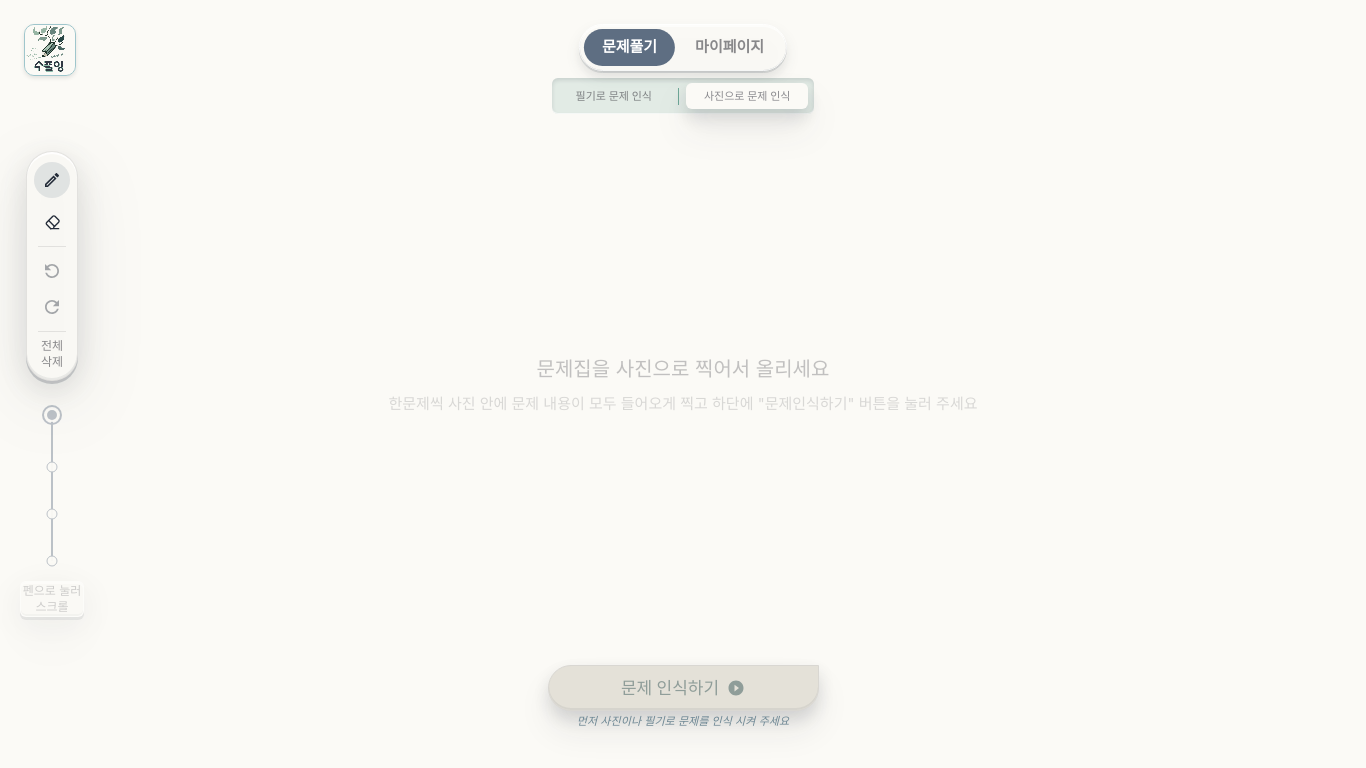
Test case: CHAT 단계 전달(off) › figureContext 키 없이 기존 인자만 보낸다
Press the mouse on the drawing at x=683, y=384, box left=0, top=0, right=1365, bottom=767
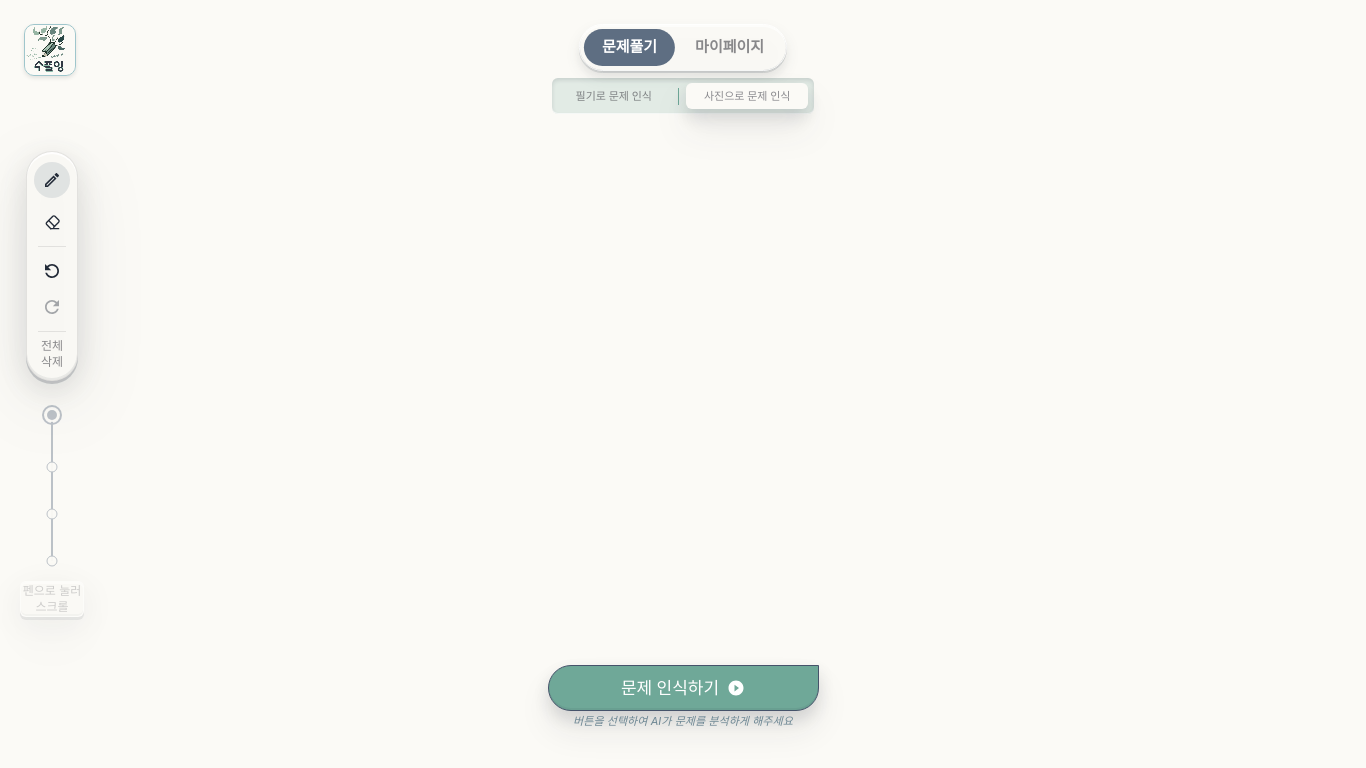
Click the button "문제 인식하기".
click(683, 688)  # box left=548, top=665, right=818, bottom=711
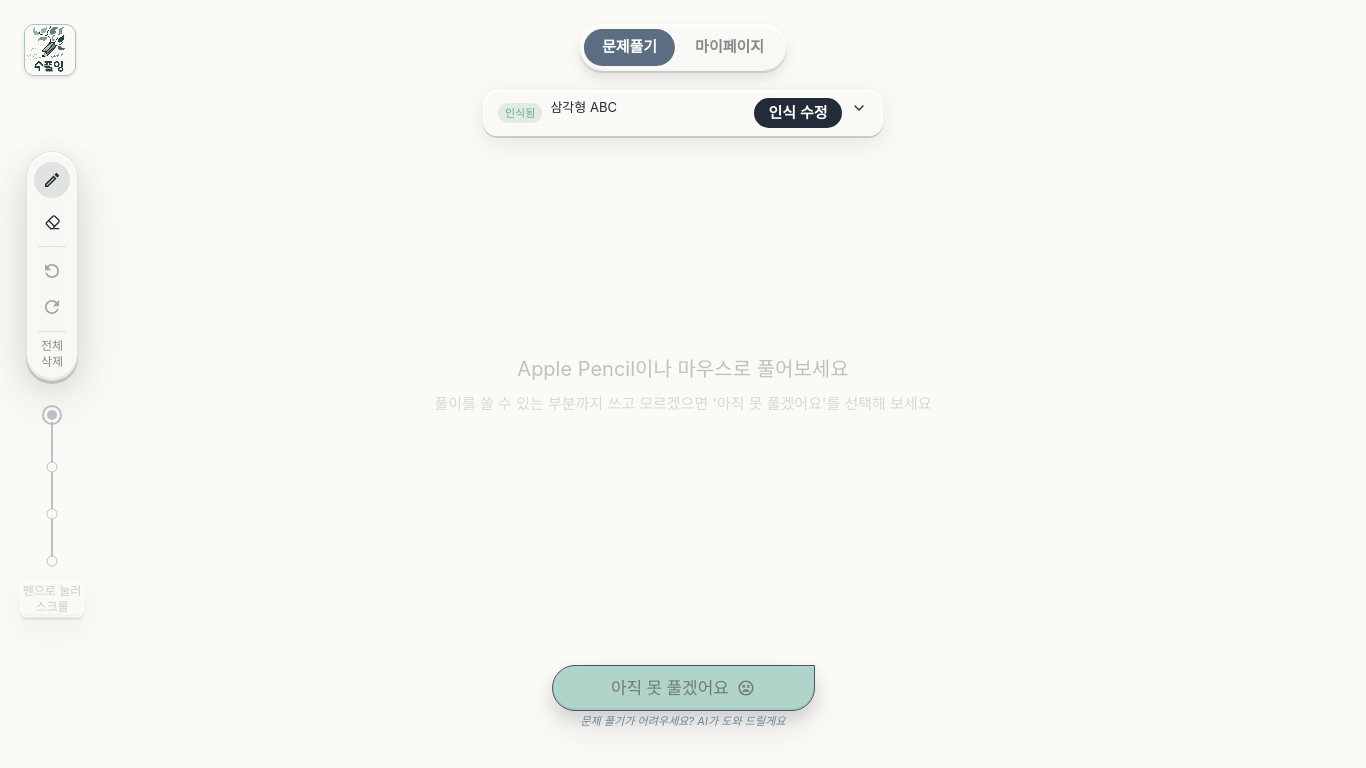
Result: the button "아직 못 풀겠어요" is enabled
Click the button "아직 못 풀겠어요".
click(683, 688)  # box left=552, top=665, right=814, bottom=711
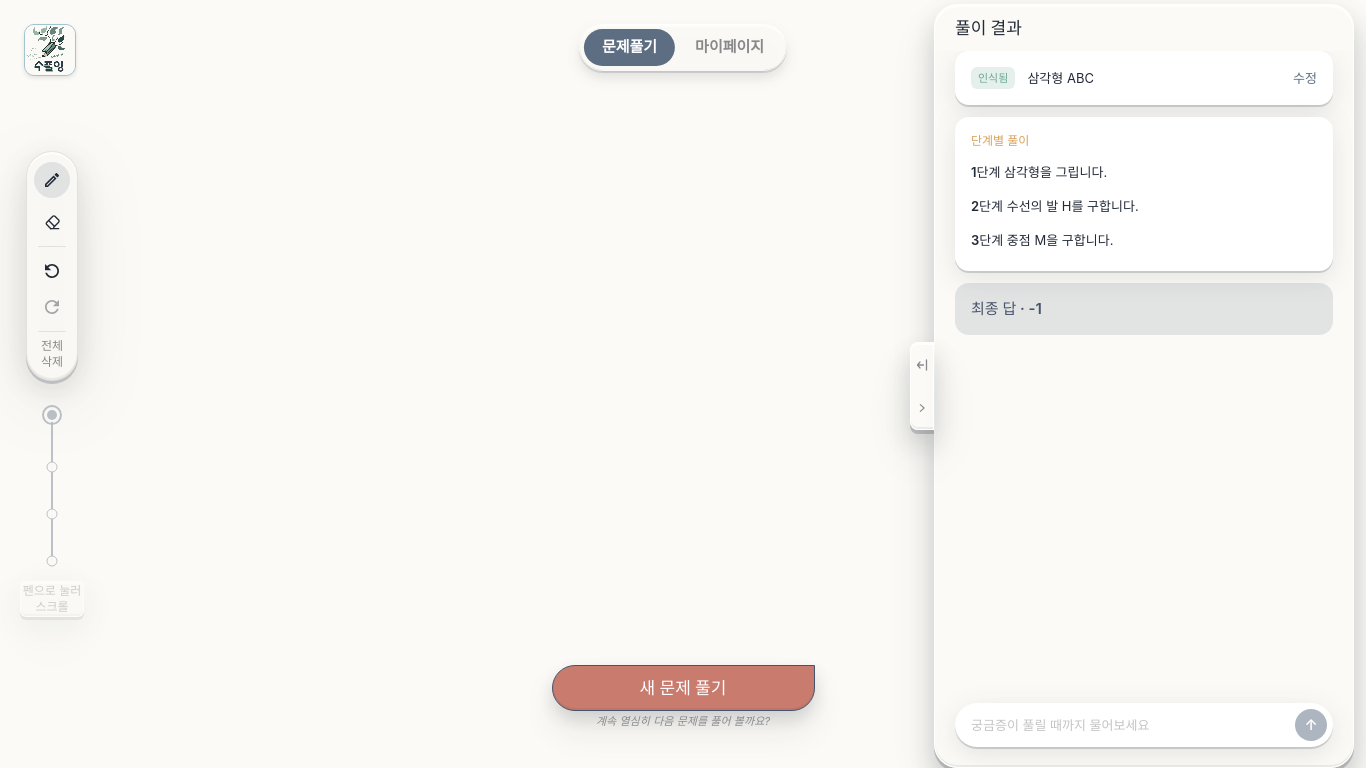
Result: the heading "풀이 결과" is shown at left=955, top=17, right=1022, bottom=39
Type "질문" into the field named "후속 질문 입력".
click(1129, 725); type("질문")  # box left=971, top=716, right=1287, bottom=734
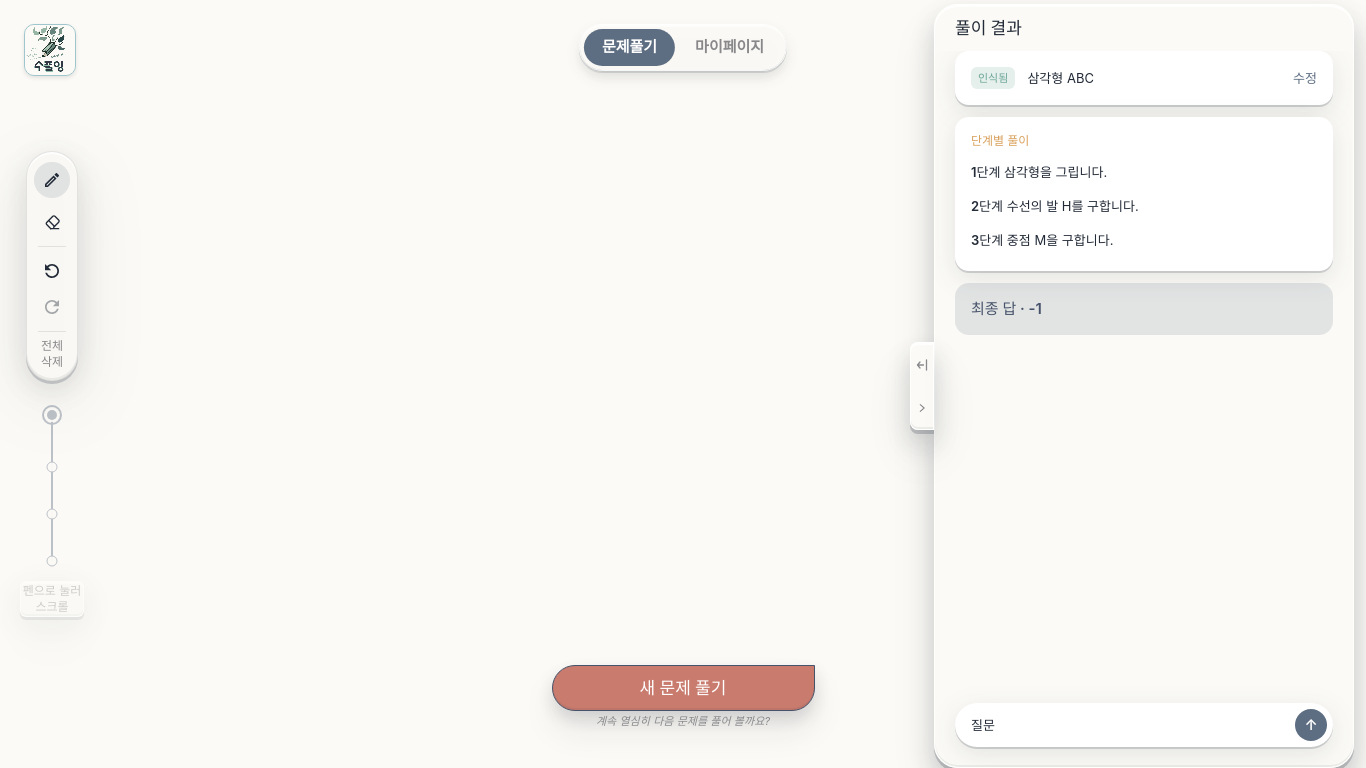
Click the button named "질문 보내기".
click(1311, 725)  # box left=1295, top=709, right=1327, bottom=741
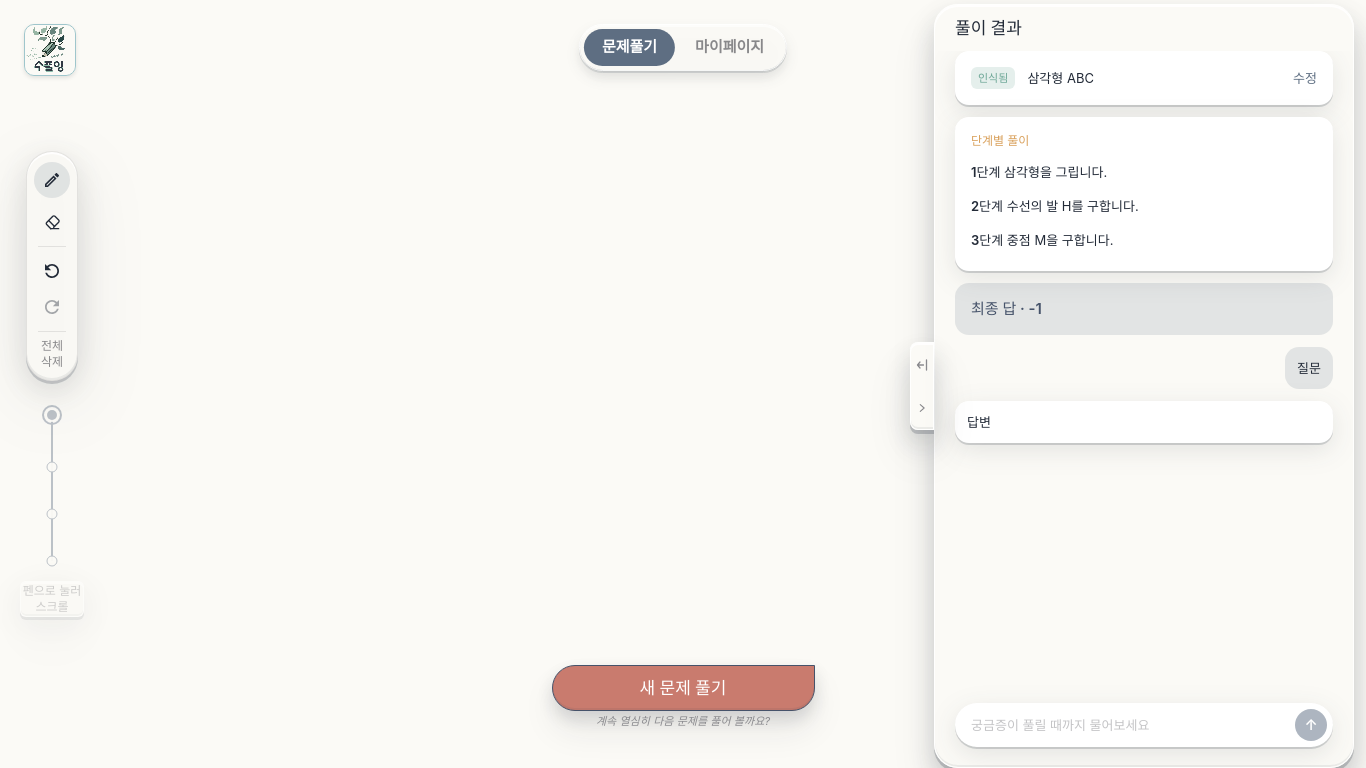
Result: the text "답변" is shown at left=967, top=414, right=991, bottom=430
